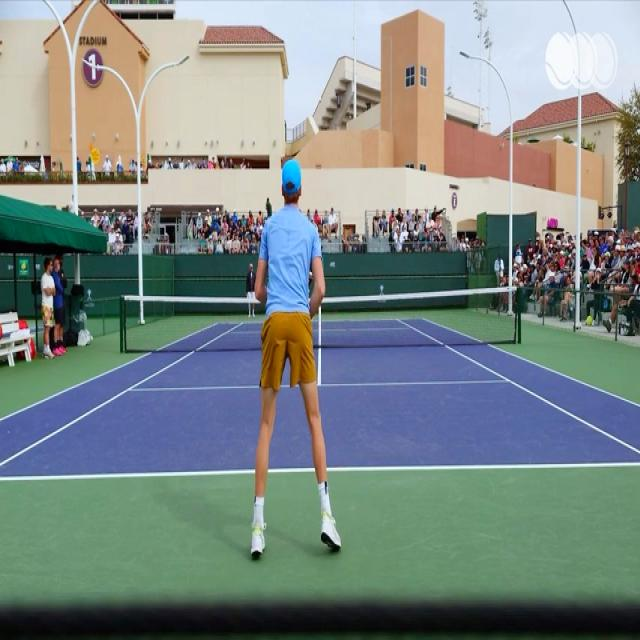ready-position: (247, 156, 341, 553)
